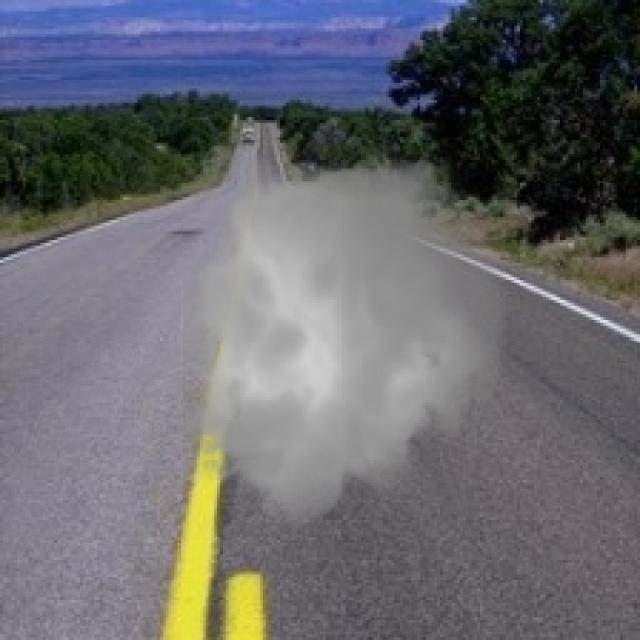smoke: (166, 137, 517, 540)
